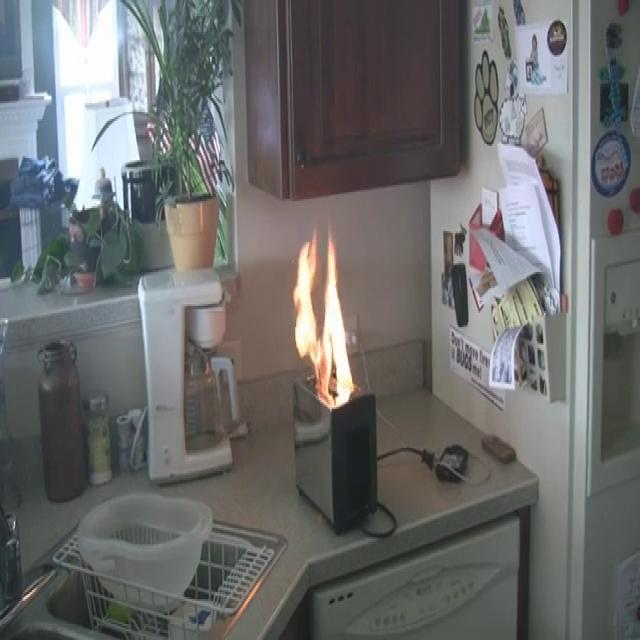fire: (285, 224, 366, 418)
